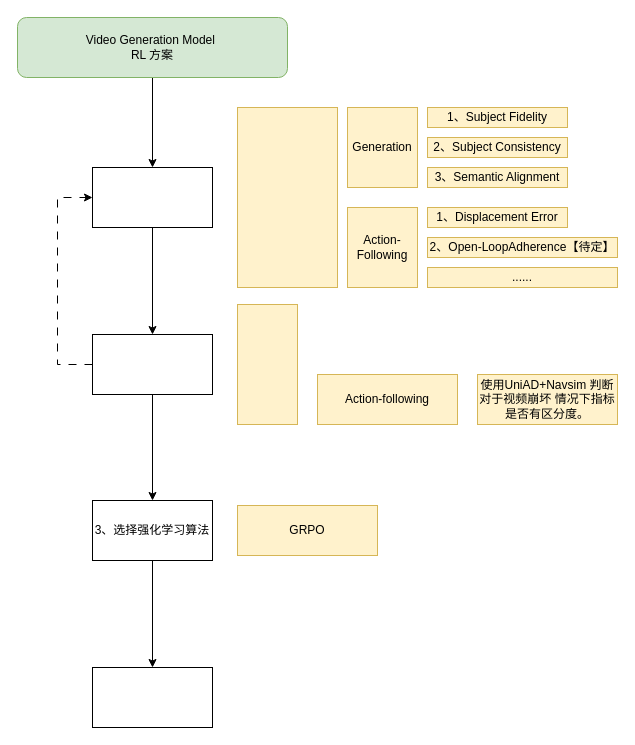
This 635x745 diagram has some shape labels left out. The centre of each missing label's shape, as x and y in pixels:
"1、构建混合奖励模型" belongs at point (152, 197).
"2、奖励函数验证与加速" belongs at point (152, 364).
"4、训练" belongs at point (152, 697).
"参考World-Lens 指标候选集合：" belongs at point (287, 197).
"指标验 证方案" belongs at point (267, 364).
